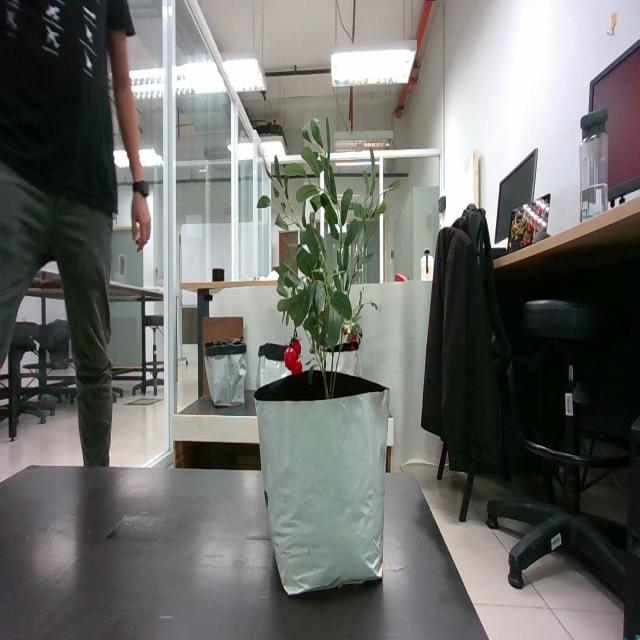Soilbag: (255, 370, 389, 600)
Tomato: (281, 337, 308, 378)
plant: (268, 119, 366, 400)
